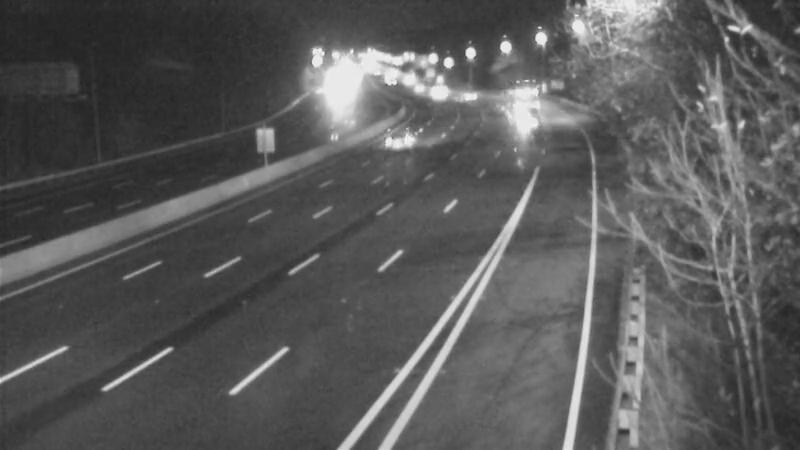vehicle: (412, 65, 462, 115), (447, 73, 497, 123), (502, 70, 552, 120), (503, 90, 553, 140), (374, 107, 424, 157)
